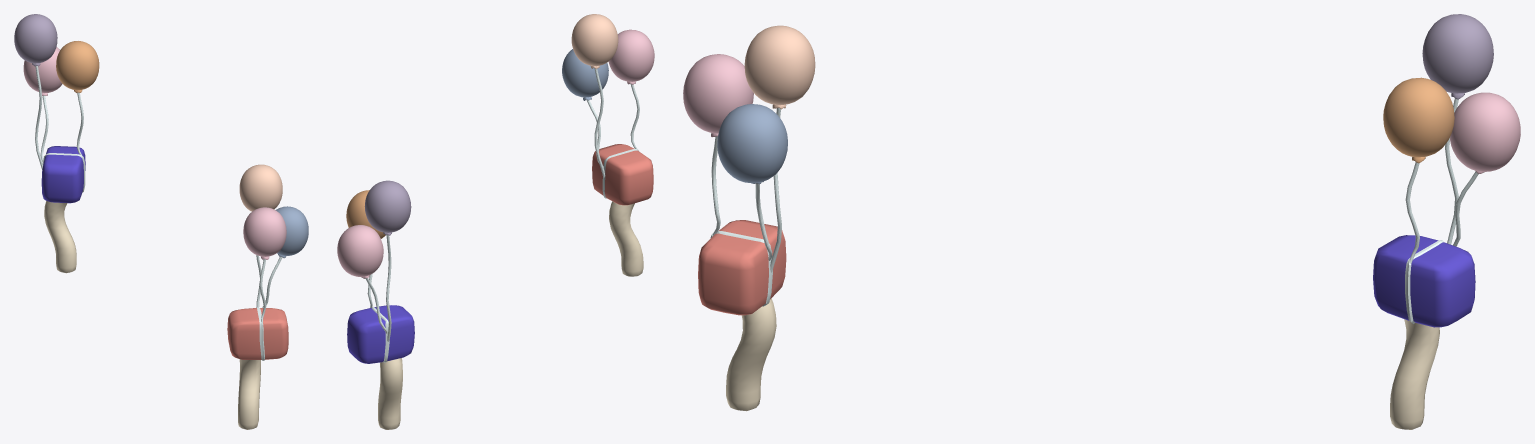
The model's file is Luftballons.fbx.
The picture shows the model from 3 angles, left to right: view 1: azimuth 30°, elevation 25°; view 2: azimuth 150°, elevation 25°; view 3: azimuth 270°, elevation 25°; orthographic projection. The views are drawn at different scales.
Parts seen in each view (by area): view 1: pCylinder39, pCube602; view 2: pCylinder39, pCube602; view 3: pCube602, pCylinder39.
Part boxes in pixels (bbox=[...]): pCylinder39: bbox=[227, 164, 308, 429]; pCube602: bbox=[14, 14, 99, 273]; pCylinder39: bbox=[562, 14, 654, 276]; pCube602: bbox=[337, 180, 414, 429]; pCube602: bbox=[1373, 14, 1520, 429]; pCylinder39: bbox=[683, 25, 815, 411].
Size of the model in its own units: 1.78 by 5.32 by 10.18.
